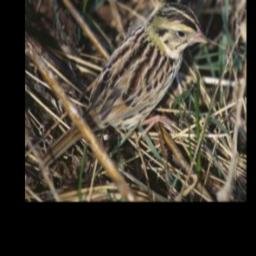Sparrow: (37, 0, 212, 174)
